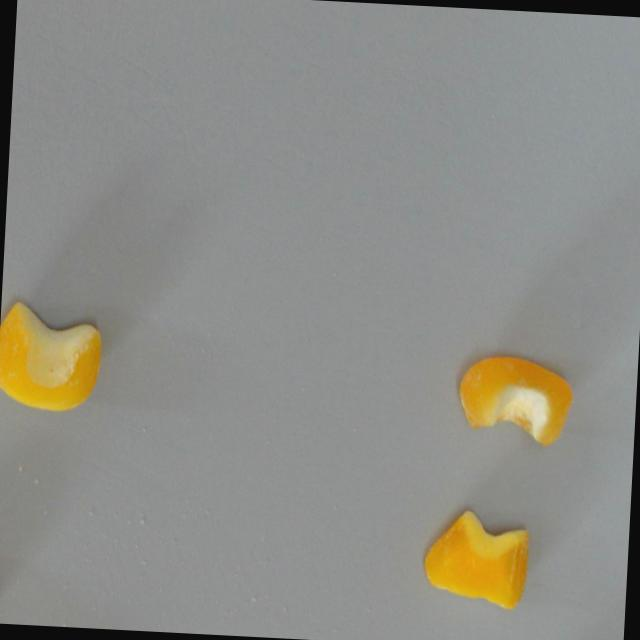no_canjicado: (417, 497, 536, 616)
no_desgerminado: (452, 348, 578, 453)
punto_negro: (0, 295, 107, 417)
